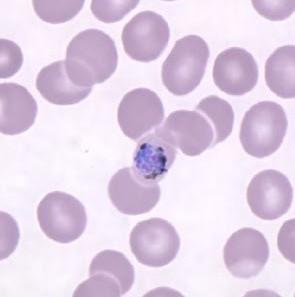Infected: (131, 135, 177, 184)
Uninfected: (160, 35, 209, 95), (66, 29, 118, 84), (118, 86, 168, 140), (239, 101, 287, 157), (36, 191, 86, 242), (120, 9, 169, 61), (36, 60, 92, 105), (108, 168, 160, 215), (162, 109, 214, 156), (129, 218, 178, 266), (223, 227, 268, 278), (246, 170, 291, 220), (212, 47, 258, 95), (88, 249, 134, 291), (0, 83, 37, 134), (196, 96, 233, 145)
